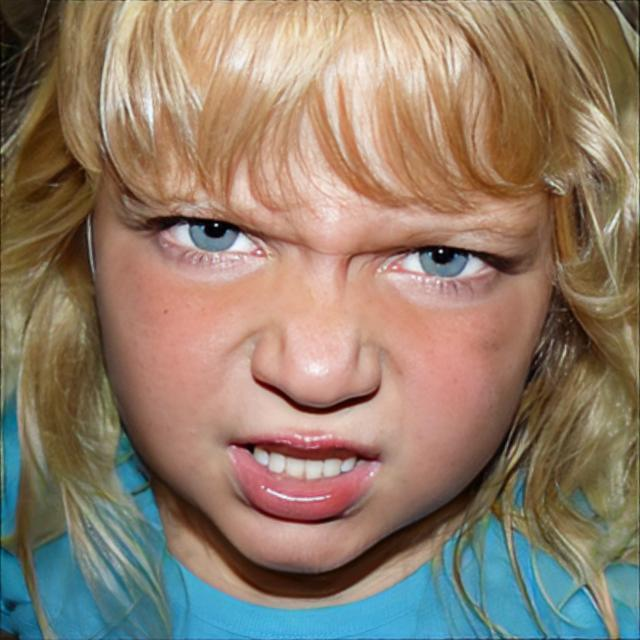anger: (106, 28, 542, 577)
